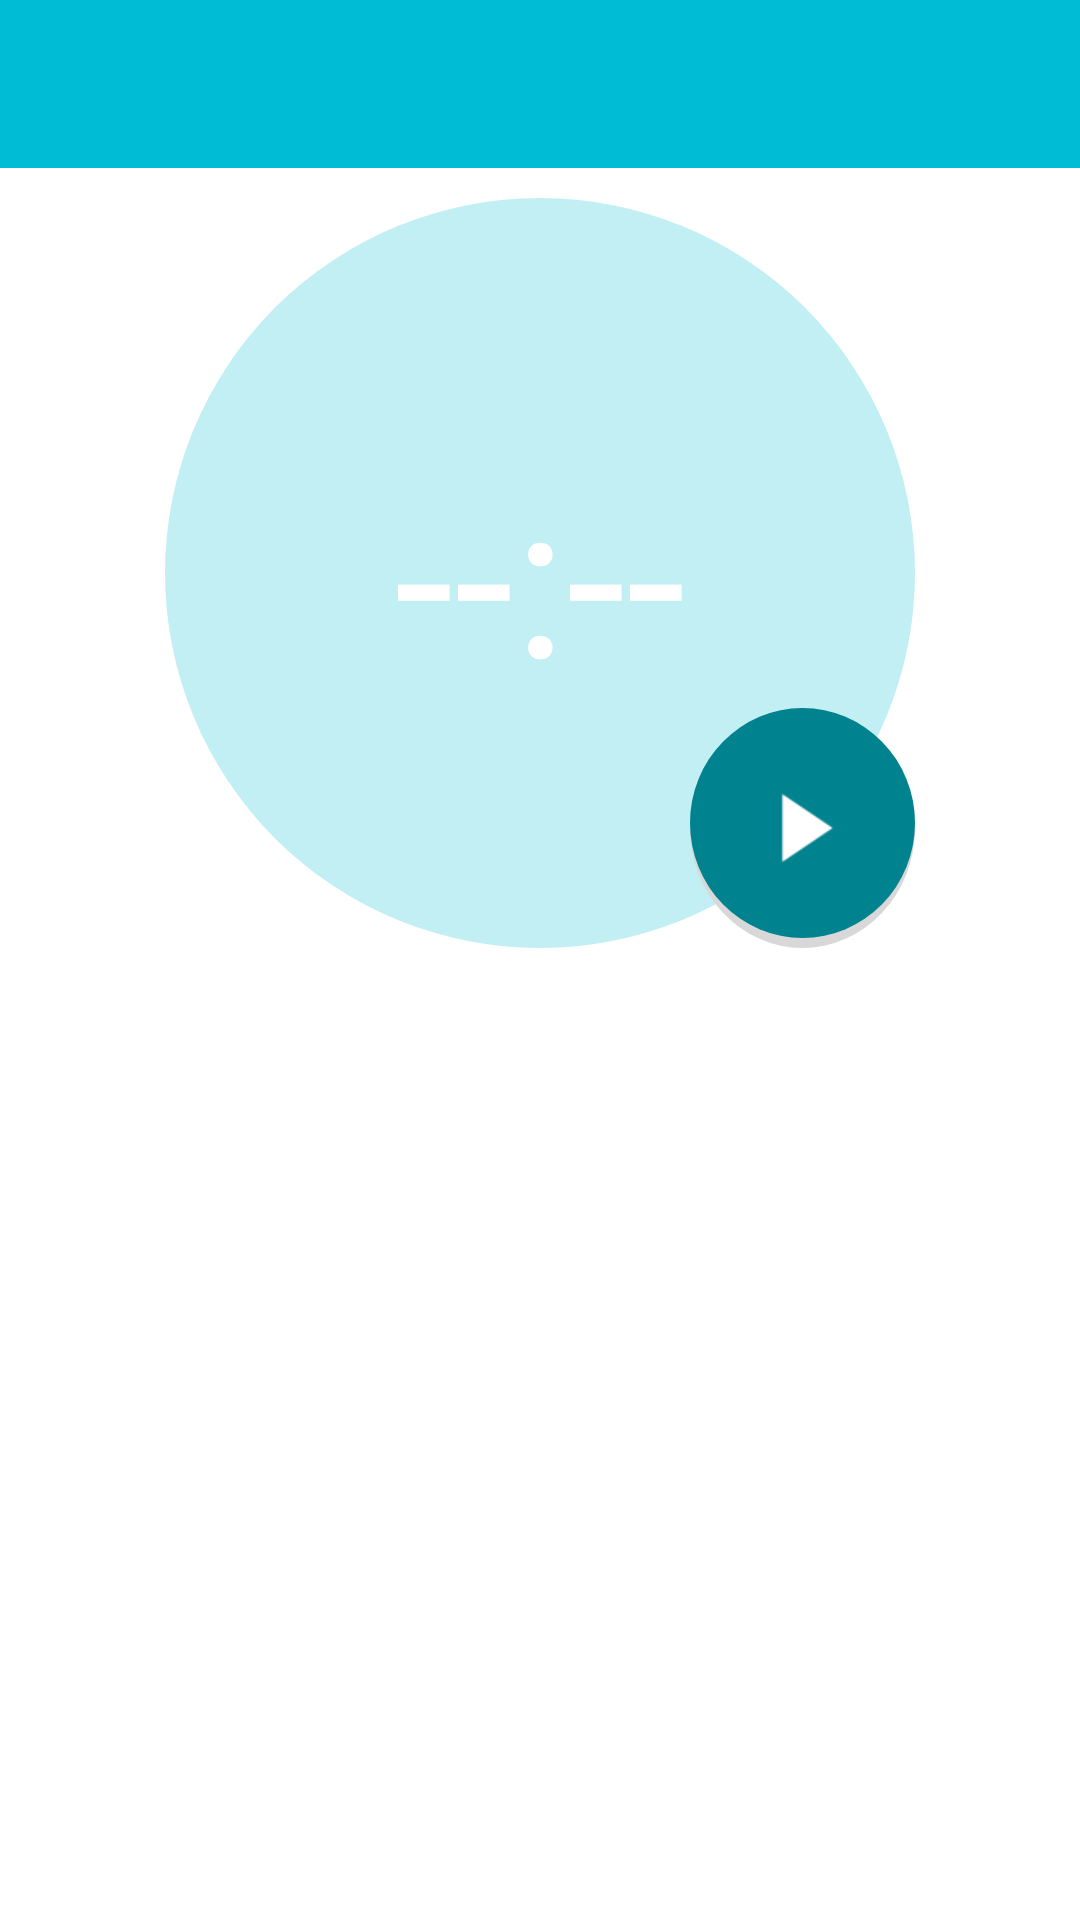

Point at icon controls on the screen. Image size 1080 × 1920, points as (x,y).
play: (802,828)
